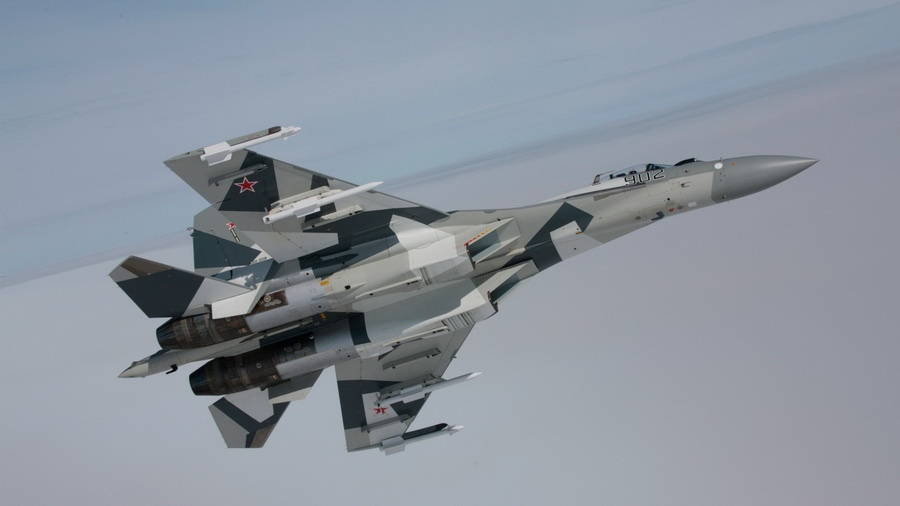airplane: (101, 117, 822, 454)
